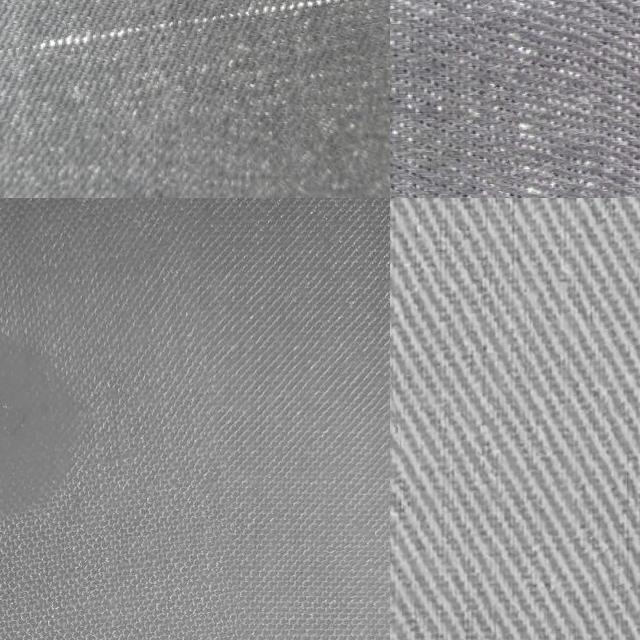Thread_other: (0, 198, 236, 640)
stains: (468, 0, 614, 198)
